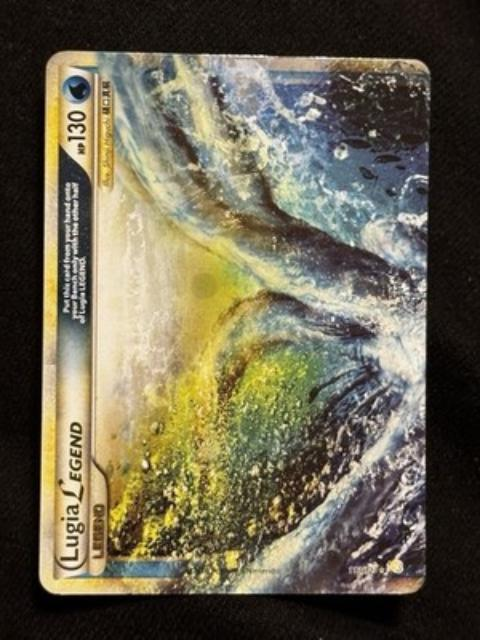Card: (33, 48, 434, 599)
Name: (54, 412, 90, 574)
